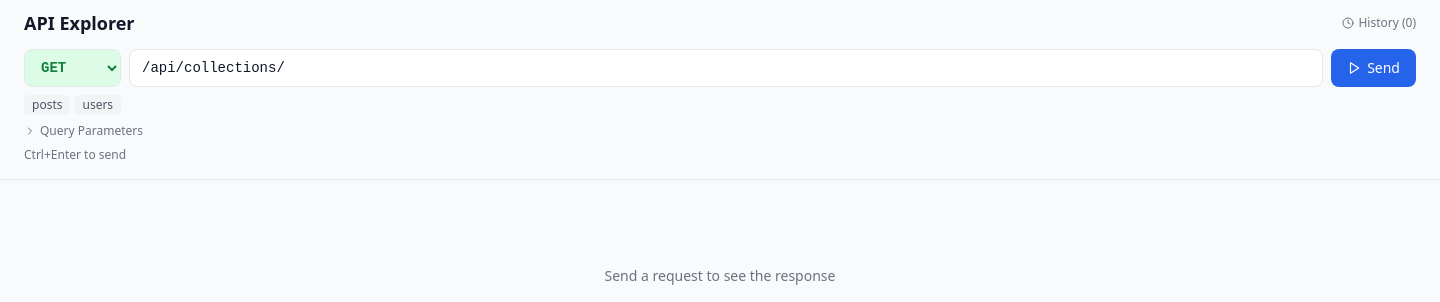
Test: ApiExplorer › shows 'Sending...' while loading
The width and height of the screenshot is (1440, 302).
Replace the text in the field named "Request path" with "/api/collections/posts": (726, 68) [129,49,1323,87]
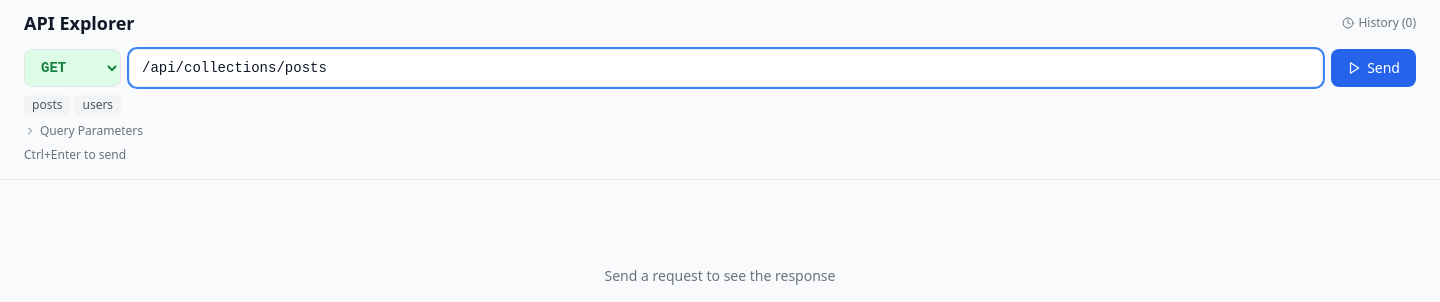
Click the button "Send": (1374, 68) [1331,49,1416,87]
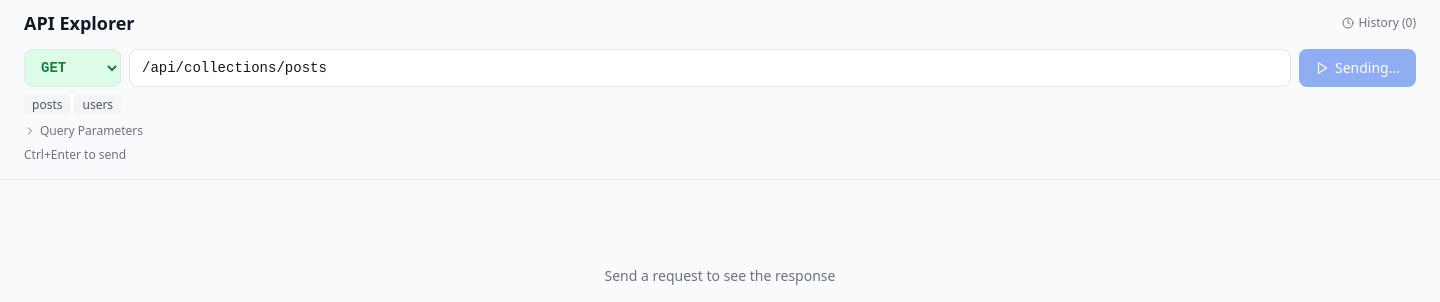
Expected: the button "Sending..." is shown, [1299,49,1416,87]
